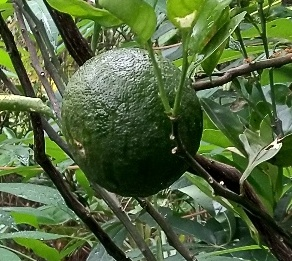Cam: (61, 46, 205, 199)
